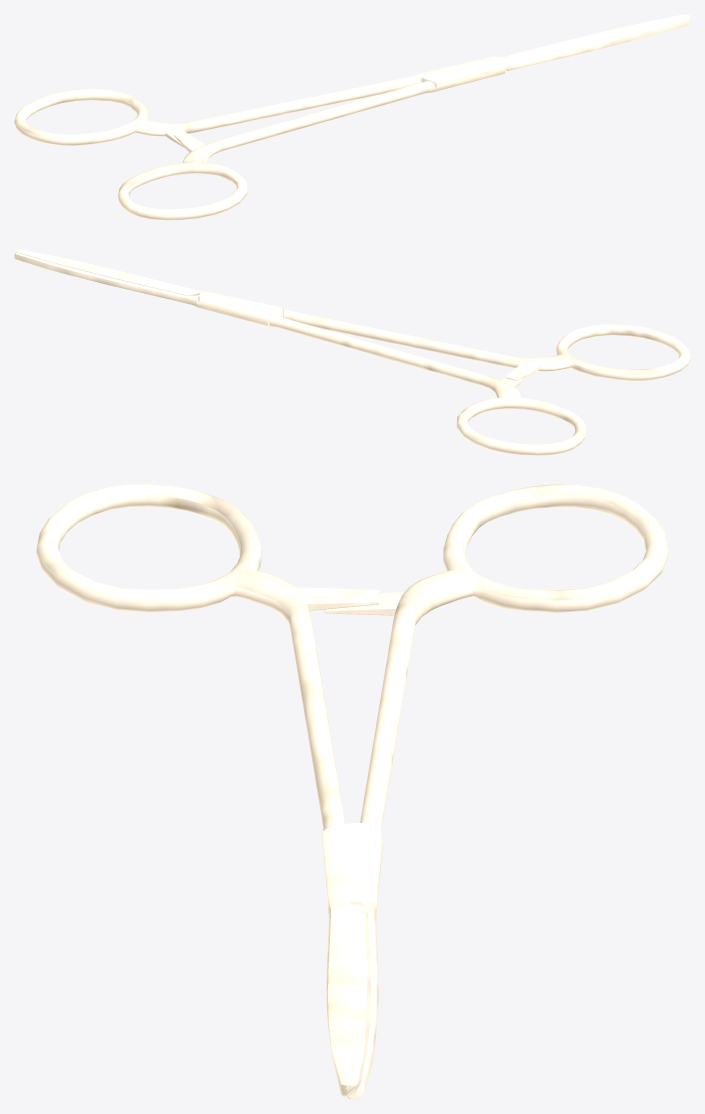
File: SM_OPR_Surgical_Scissors_01.fbx
3 views of the same model, one above another, from view 1: azimuth 30°, elevation 25°; view 2: azimuth 150°, elevation 25°; view 3: azimuth 270°, elevation 25° (orthographic). The views are drawn at different scales.
Visible parts, largest first — view 1: SM_OPR_Surgical_Scissors_01_LOD0; view 2: SM_OPR_Surgical_Scissors_01_LOD0; view 3: SM_OPR_Surgical_Scissors_01_LOD0.
Part boxes in pixels (x1=…): SM_OPR_Surgical_Scissors_01_LOD0: x1=14, y1=14, x2=690, y2=220; SM_OPR_Surgical_Scissors_01_LOD0: x1=14, y1=249, x2=690, y2=455; SM_OPR_Surgical_Scissors_01_LOD0: x1=36, y1=484, x2=668, y2=1099.
Size of the model in its own units: 17.54 by 7.79 by 0.2845.
1 material, 1 textured.
